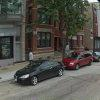Tree: (44, 0, 88, 42)
